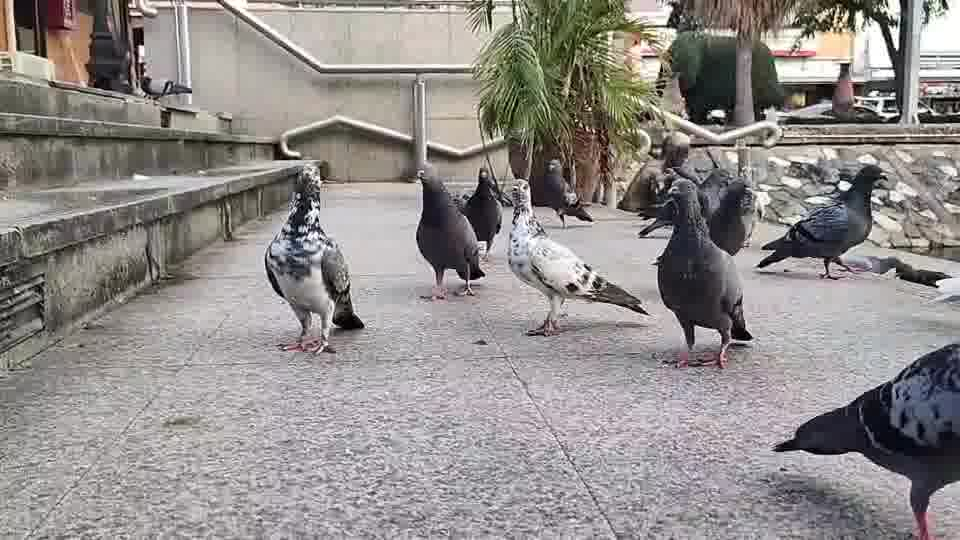Pigeon: (771, 341, 959, 538), (505, 178, 651, 336), (637, 177, 754, 369), (263, 162, 364, 355), (754, 163, 889, 279), (413, 167, 486, 300), (458, 166, 503, 261), (542, 158, 594, 229)
